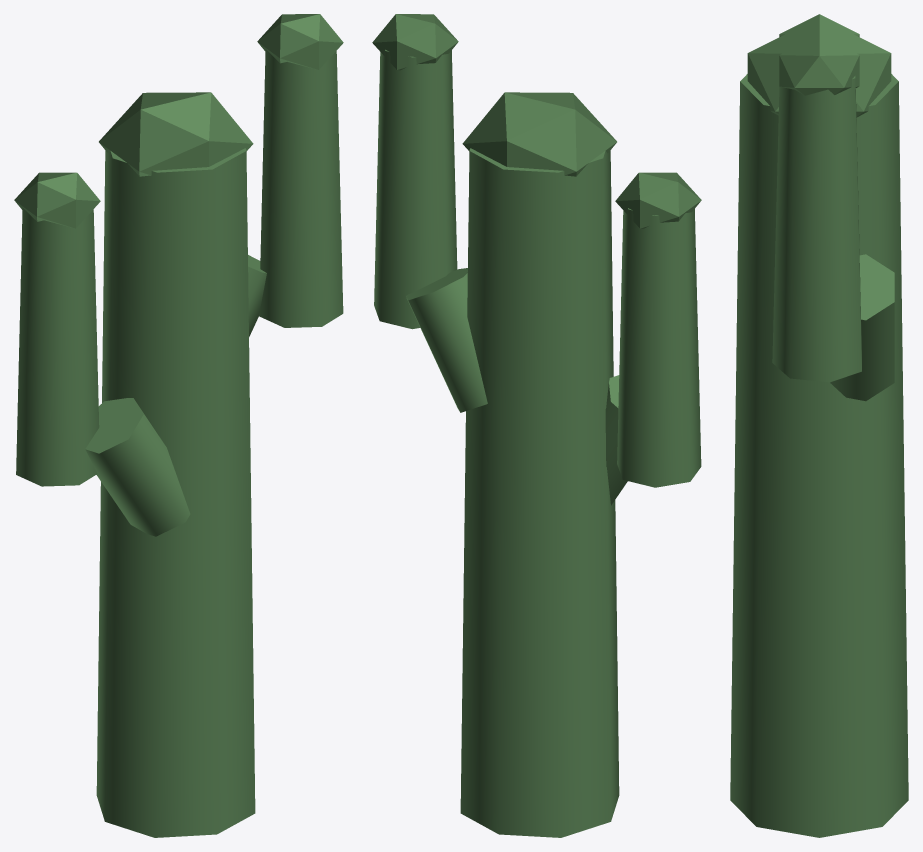
File: tree_saguaro_2.glb
3 renders of one model, left to right at view 1: azimuth 30°, elevation 25°; view 2: azimuth 150°, elevation 25°; view 3: azimuth 270°, elevation 25°, orthographic. The views are drawn at different scales.
Visible parts, largest first — view 1: tree_saguaro_2; view 2: tree_saguaro_2; view 3: tree_saguaro_2.
Part boxes in pixels (x1=…): tree_saguaro_2: x1=14, y1=14, x2=343, y2=837; tree_saguaro_2: x1=372, y1=14, x2=701, y2=837; tree_saguaro_2: x1=730, y1=14, x2=908, y2=837.
Size of the model in its own units: 1.6 by 3.65 by 0.72.
